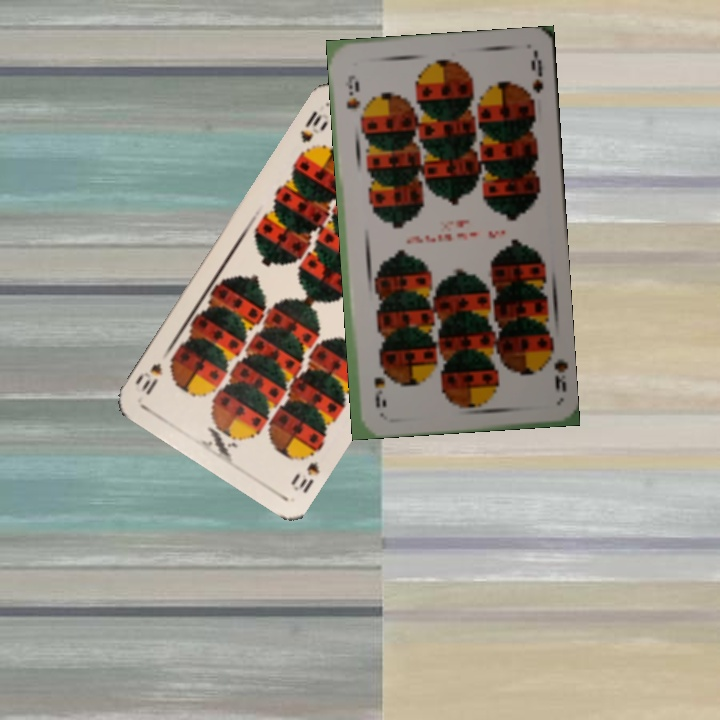S10: (286, 444, 324, 496), (296, 107, 325, 146)
S9: (539, 341, 569, 395), (340, 71, 363, 112)
